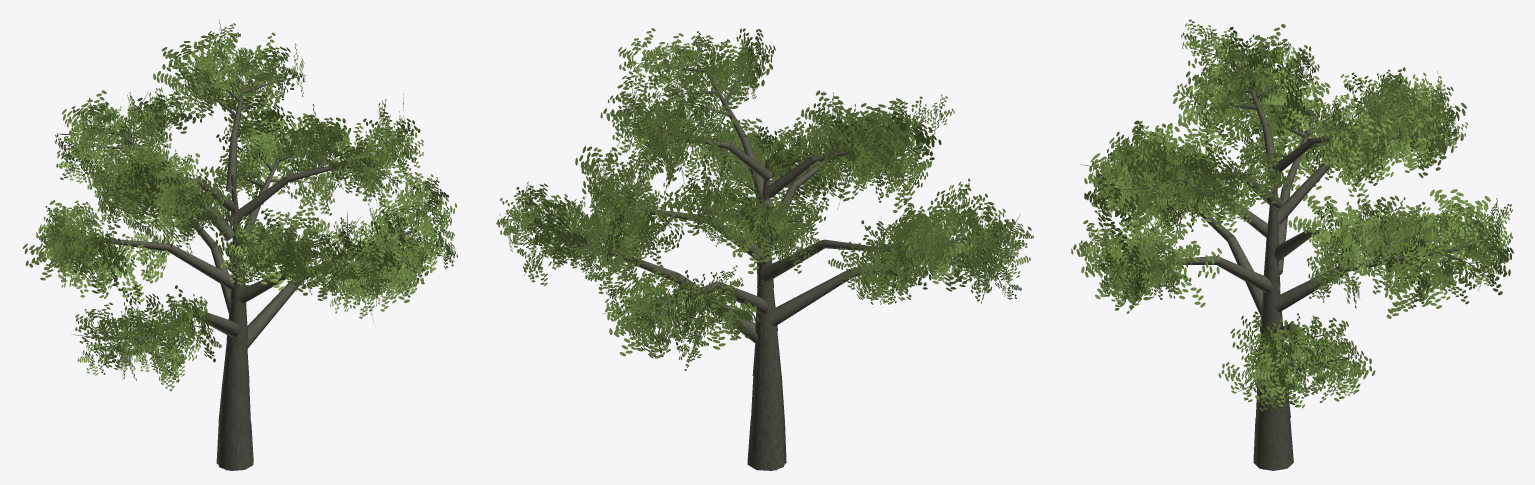
The model's file is locust-92374.glb.
3 renders of one model, left to right at view 1: azimuth 30°, elevation 25°; view 2: azimuth 150°, elevation 25°; view 3: azimuth 270°, elevation 25°, orthographic. The views are drawn at different scales.
Parts seen in each view (by area): view 1: near_leaves, far_leaves, near_bark, far_bark, near_winter; view 2: near_leaves, far_leaves, near_bark, far_bark, near_winter; view 3: near_leaves, far_leaves, near_bark, far_bark, near_winter.
Part boxes in pixels (left/top/right/bottom): near_leaves: left=29, top=19, right=454, bottom=388; far_leaves: left=22, top=32, right=457, bottom=391; near_bark: left=73, top=64, right=432, bottom=470; far_bark: left=73, top=64, right=419, bottom=470; near_winter: left=47, top=49, right=455, bottom=361; near_leaves: left=497, top=28, right=1033, bottom=365; far_leaves: left=496, top=28, right=1031, bottom=370; near_bark: left=526, top=67, right=1006, bottom=470; far_bark: left=519, top=67, right=998, bottom=470; near_winter: left=499, top=45, right=1020, bottom=332; near_leaves: left=1079, top=19, right=1512, bottom=408; far_leaves: left=1071, top=24, right=1513, bottom=412; near_bark: left=1124, top=57, right=1476, bottom=470; far_bark: left=1113, top=61, right=1470, bottom=469; near_winter: left=1081, top=42, right=1487, bottom=392.
Size of the model in its own units: 11.84 by 9.65 by 9.62.
2 materials, 2 textured.
